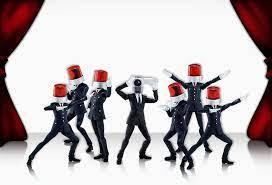no more kid: (129, 74, 159, 95)
